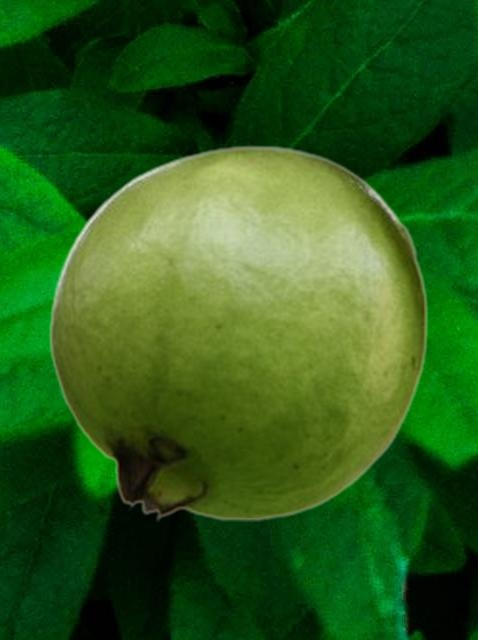guava: (48, 144, 428, 520)
